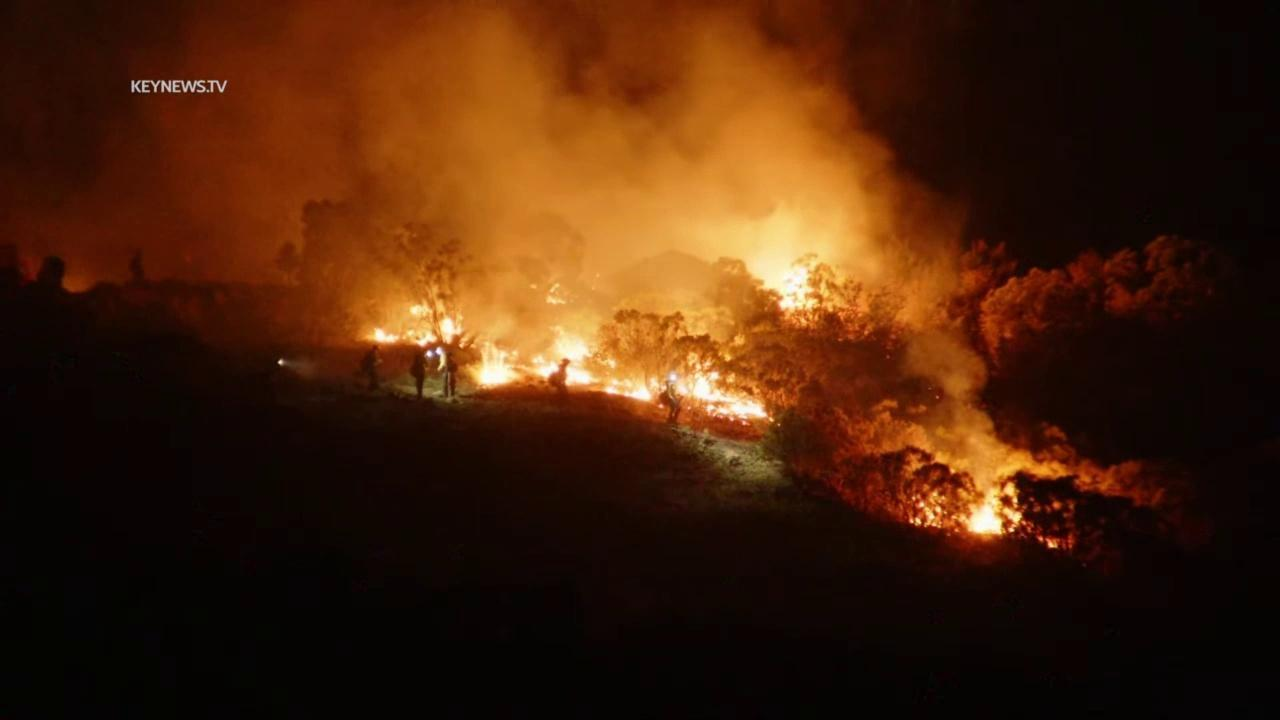fire: (602, 360, 781, 427), (909, 476, 1027, 539), (521, 322, 600, 389), (769, 259, 821, 313), (468, 337, 519, 392), (402, 318, 469, 349), (543, 280, 571, 307), (362, 325, 401, 343), (1035, 531, 1060, 554), (407, 303, 435, 318)
smoke: (0, 0, 999, 496)
